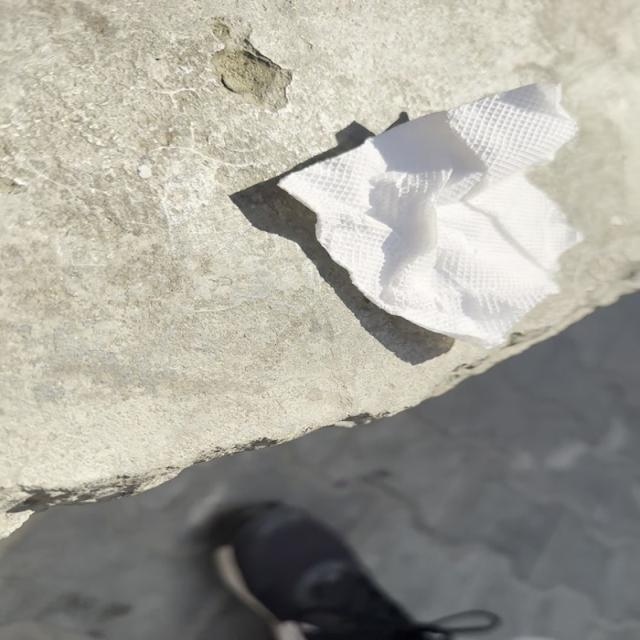tissue: (276, 79, 600, 351)
